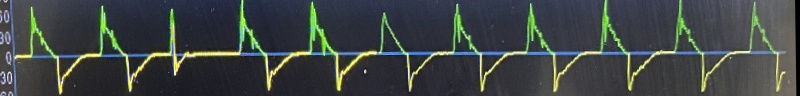hydrop_flow: (1, 0, 800, 96)
